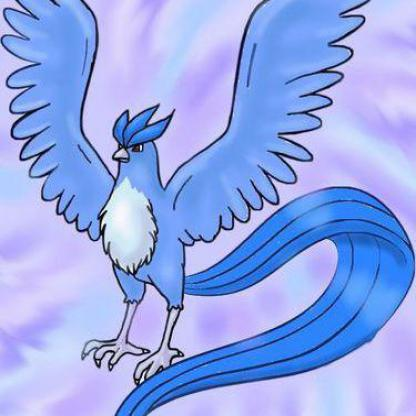Articuno: (43, 3, 416, 416)
